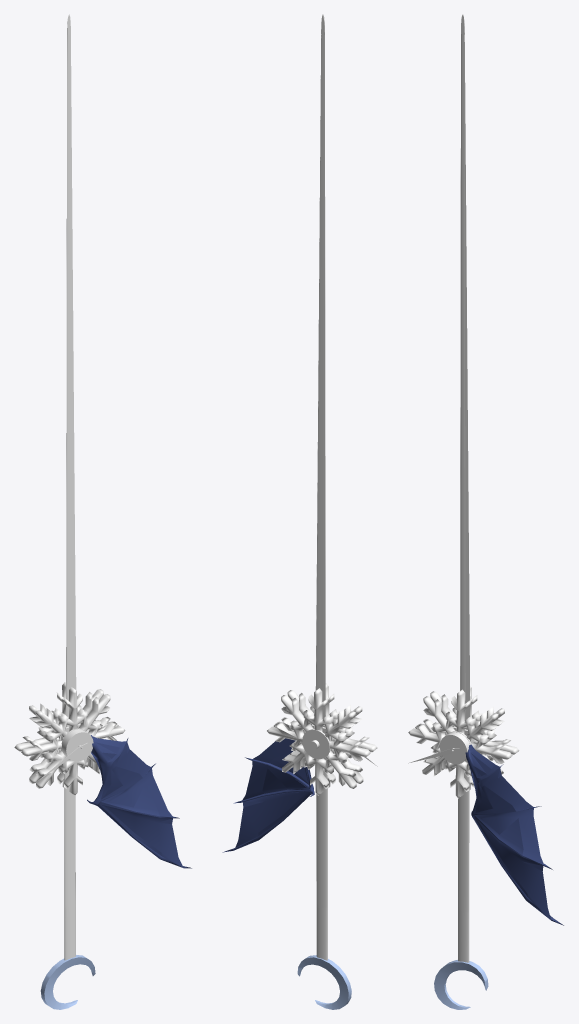
The model's file is DustOfSnow.obj.
3 renders of one model, left to right at view 1: azimuth 30°, elevation 25°; view 2: azimuth 150°, elevation 25°; view 3: azimuth 330°, elevation 25°, orthographic.
Parts seen in each view (by area): view 1: DustOfSnow1:polySurface22, DustOfSnow1:polySurface23, DustOfSnow1:polySurface10, DustOfSnow1:polySurface9; view 2: DustOfSnow1:polySurface22, DustOfSnow1:polySurface9, DustOfSnow1:polySurface23, DustOfSnow1:polySurface10; view 3: DustOfSnow1:polySurface22, DustOfSnow1:polySurface23, DustOfSnow1:polySurface10, DustOfSnow1:polySurface9.
Part boxes in pixels (x1,y1,x2,y2): DustOfSnow1:polySurface22: [40, 14, 95, 1009]; DustOfSnow1:polySurface23: [62, 729, 191, 868]; DustOfSnow1:polySurface10: [21, 687, 125, 795]; DustOfSnow1:polySurface9: [14, 682, 118, 787]; DustOfSnow1:polySurface22: [297, 14, 351, 1009]; DustOfSnow1:polySurface9: [267, 688, 370, 795]; DustOfSnow1:polySurface23: [222, 738, 314, 852]; DustOfSnow1:polySurface10: [273, 683, 377, 788]; DustOfSnow1:polySurface22: [434, 14, 488, 1009]; DustOfSnow1:polySurface23: [439, 732, 563, 925]; DustOfSnow1:polySurface10: [408, 689, 512, 798]; DustOfSnow1:polySurface9: [415, 686, 519, 789].
Size of what is drawn, in the model's own units: 3.2 by 18.67 by 0.8329.
